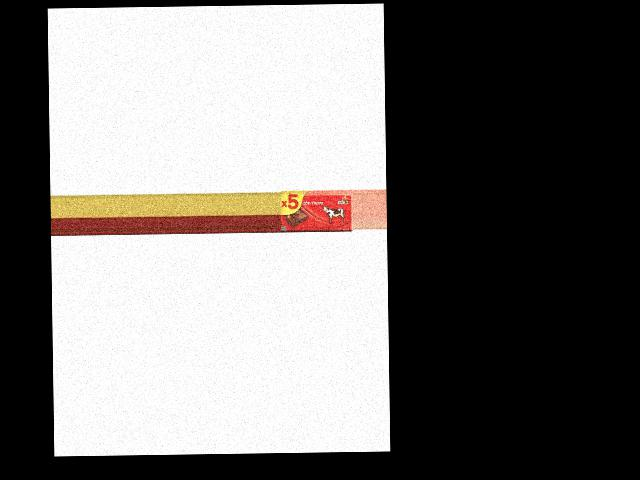chocolate: (280, 188, 354, 232)
